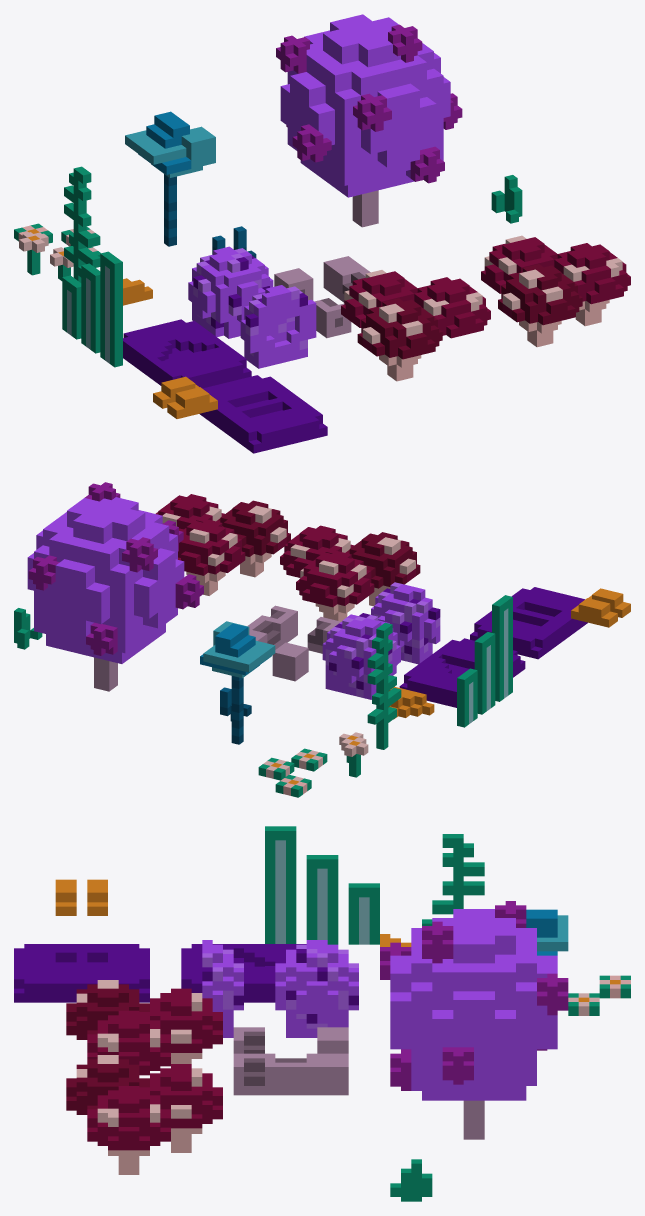
File: button_for_pause-1.obj
The picture shows the model from 3 angles, top to bottom: view 1: azimuth 30°, elevation 25°; view 2: azimuth 150°, elevation 25°; view 3: azimuth 270°, elevation 25°; orthographic projection. The views are drawn at different scales.
Bounding box in the file's own units: 6.1 × 2.3 × 5.9.
Materials: 1 (1 with a texture image).
